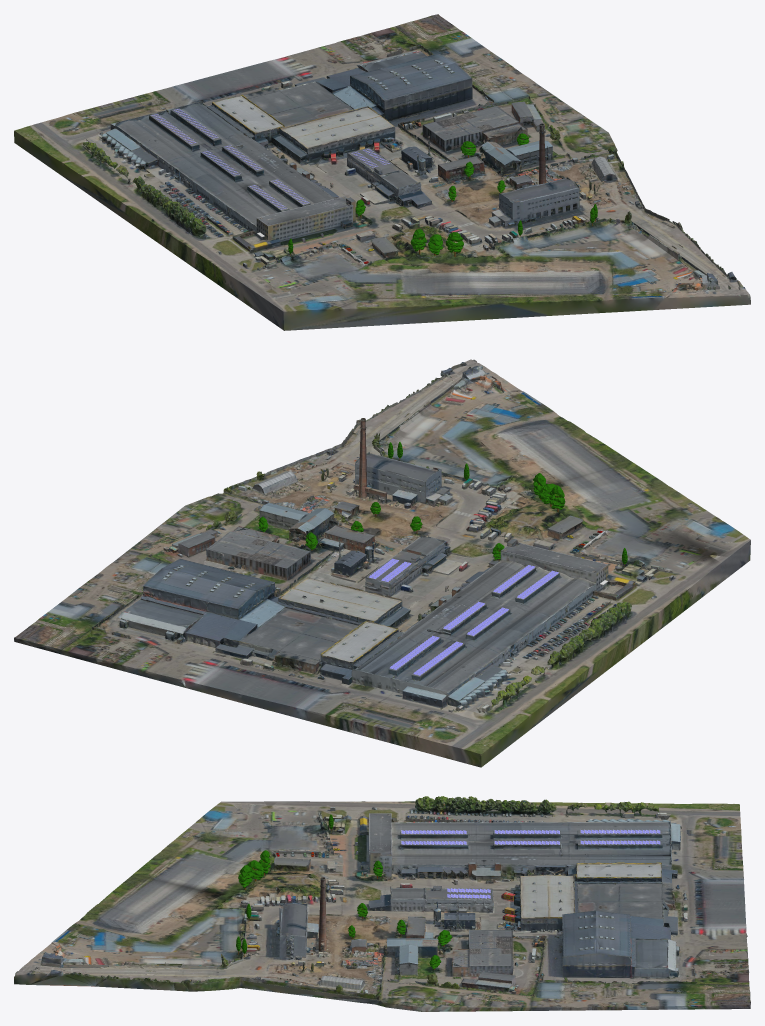
3 renders of one model, top to bottom at view 1: azimuth 30°, elevation 25°; view 2: azimuth 150°, elevation 25°; view 3: azimuth 270°, elevation 25°, orthographic. The views are drawn at different scales.
Parts seen in each view (by area): view 1: scene.001; view 2: scene.001, Plane_003_Environment_2_0_blinn2_0.003; view 3: scene.001, Plane_003_Environment_2_0_blinn2_0.003, Plane_003_Environment_2_0_blinn2_0.002, Plane_003_Environment_2_0_blinn2_0.006.
Boxes of the visible parts, box(x1,y1,x2,y2) form: scene.001: box(14, 14, 750, 330); scene.001: box(14, 359, 750, 767); Plane_003_Environment_2_0_blinn2_0.003: box(390, 635, 462, 675); scene.001: box(14, 796, 750, 1011); Plane_003_Environment_2_0_blinn2_0.003: box(580, 829, 660, 844); Plane_003_Environment_2_0_blinn2_0.002: box(494, 830, 559, 844); Plane_003_Environment_2_0_blinn2_0.006: box(401, 830, 466, 844).
Bounding box in the file's own units: 202 × 41.65 × 298.
40 materials, 7 textured.
